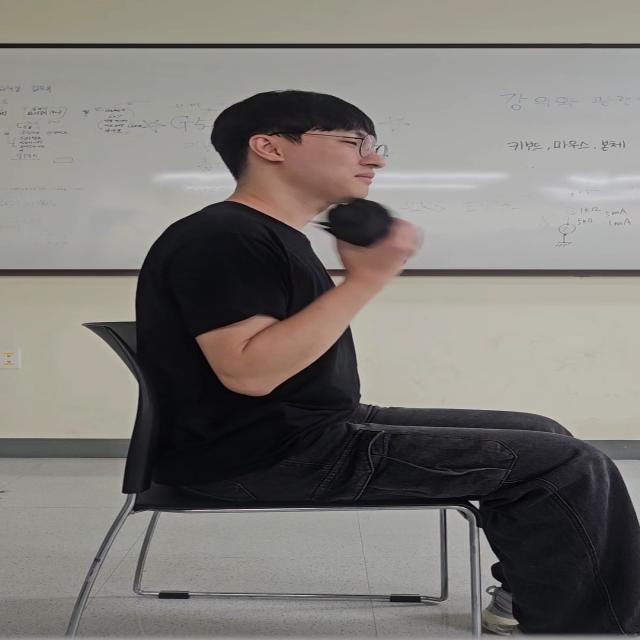curl: (158, 208, 441, 400)
